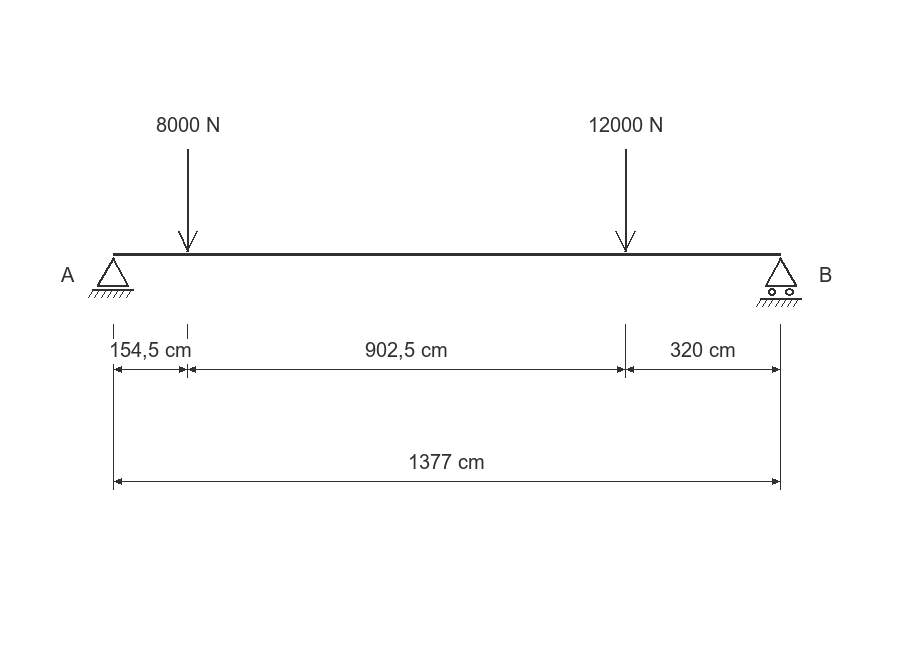pin_support: (88, 257, 134, 298)
point_load: (615, 149, 636, 252), (178, 149, 198, 252)
roller_support: (756, 257, 802, 307)
